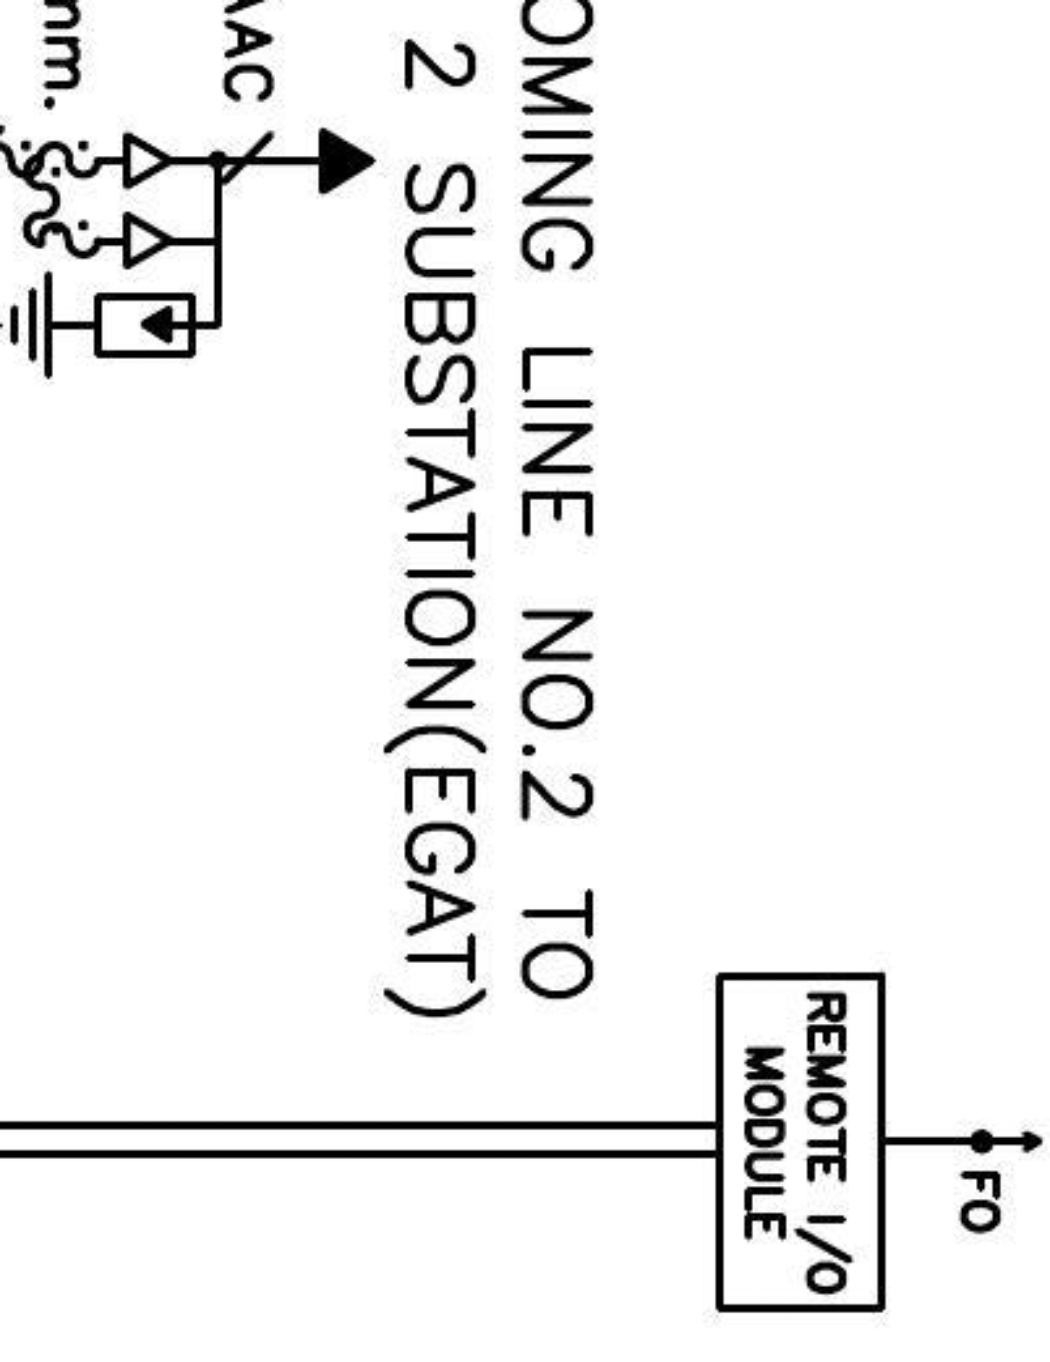remote_io_module: (715, 970, 887, 1313)
terminator_double: (120, 129, 225, 274)
